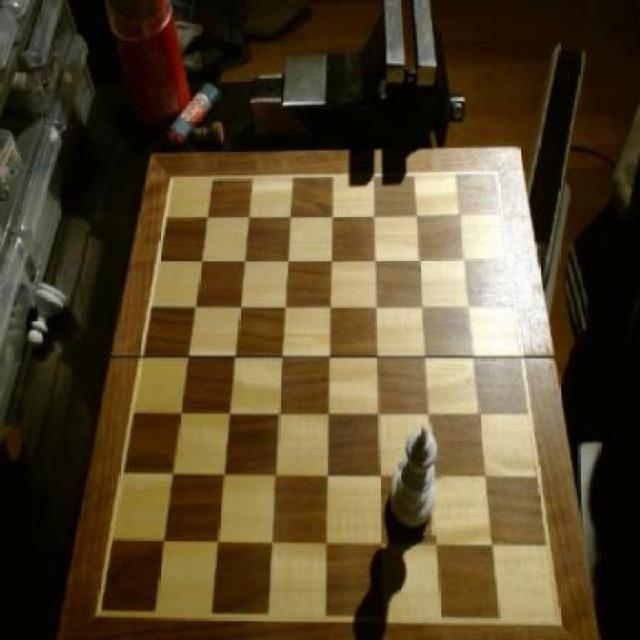white-bishop: (391, 421, 442, 537)
